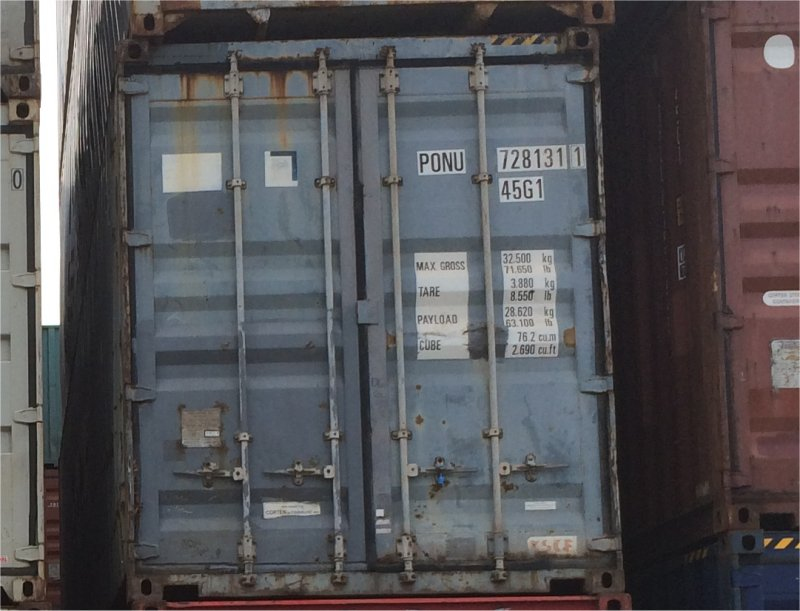container_door: (119, 31, 600, 609)
